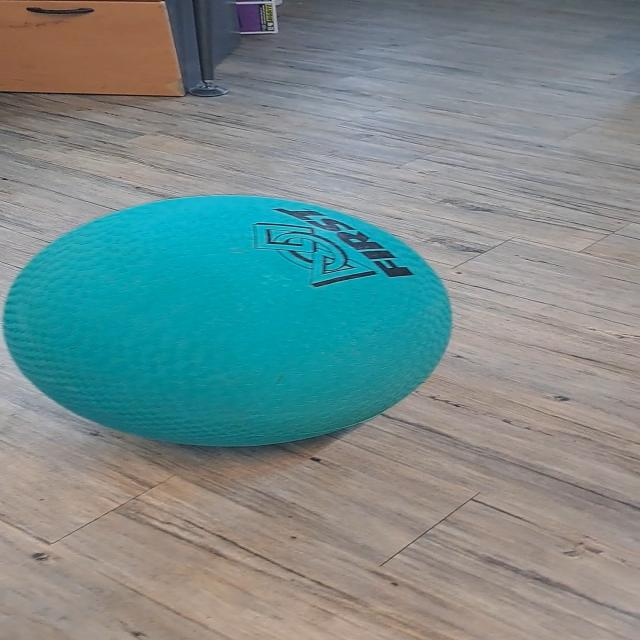ALGAE: (2, 193, 454, 448)
